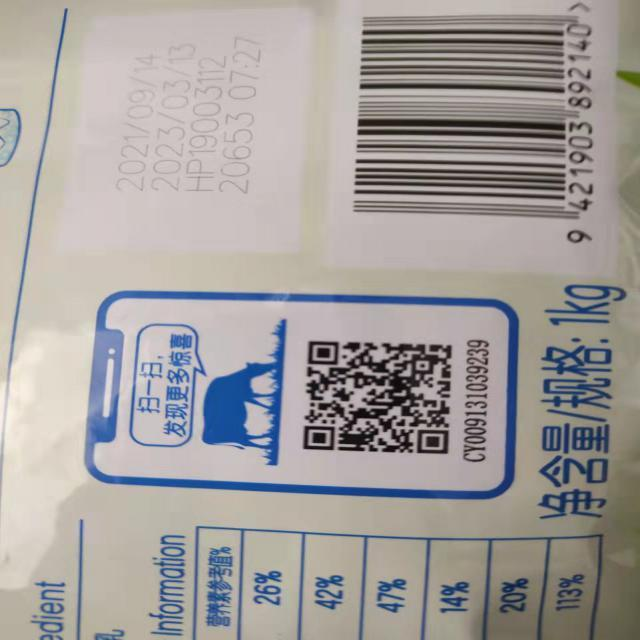qr_code: (304, 340, 453, 454)
